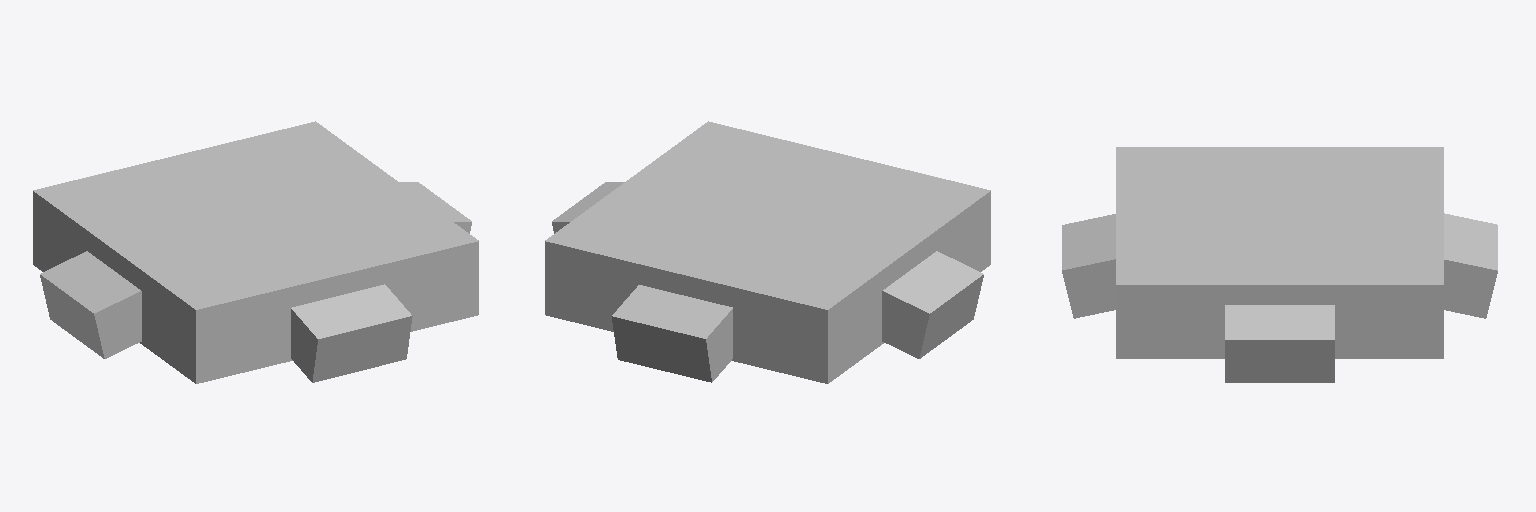
The model's file is mana_pad.obj.
3 views of the same model, side by side, from view 1: azimuth 30°, elevation 25°; view 2: azimuth 150°, elevation 25°; view 3: azimuth 270°, elevation 25° (orthographic).
Parts seen in each view (by area): view 1: arm3; view 2: arm3; view 3: arm3.
Boxes of the visible parts, x1=… form: arm3: x1=33, y1=121, x2=478, y2=383; arm3: x1=545, y1=121, x2=990, y2=383; arm3: x1=1062, y1=147, x2=1497, y2=382.
Size of the model in its own units: 1 by 0.2035 by 1.